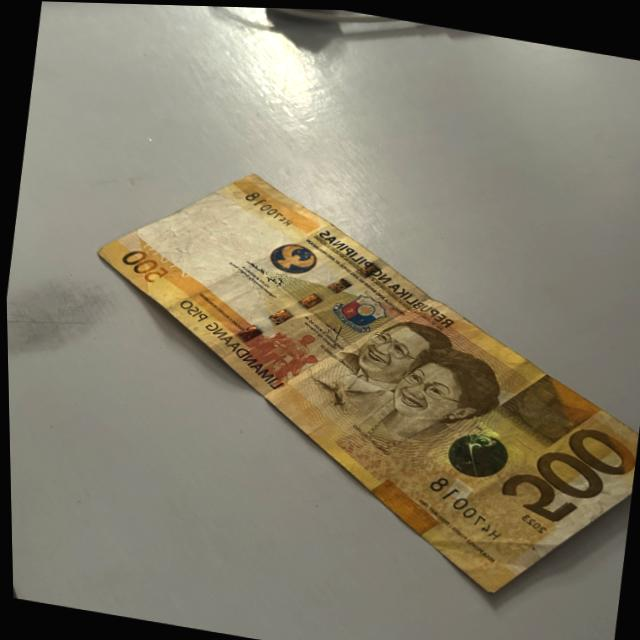concealed_value: (495, 373, 583, 440)
optically_variable_device: (443, 425, 514, 482)
see_through_mark: (142, 239, 209, 282)
